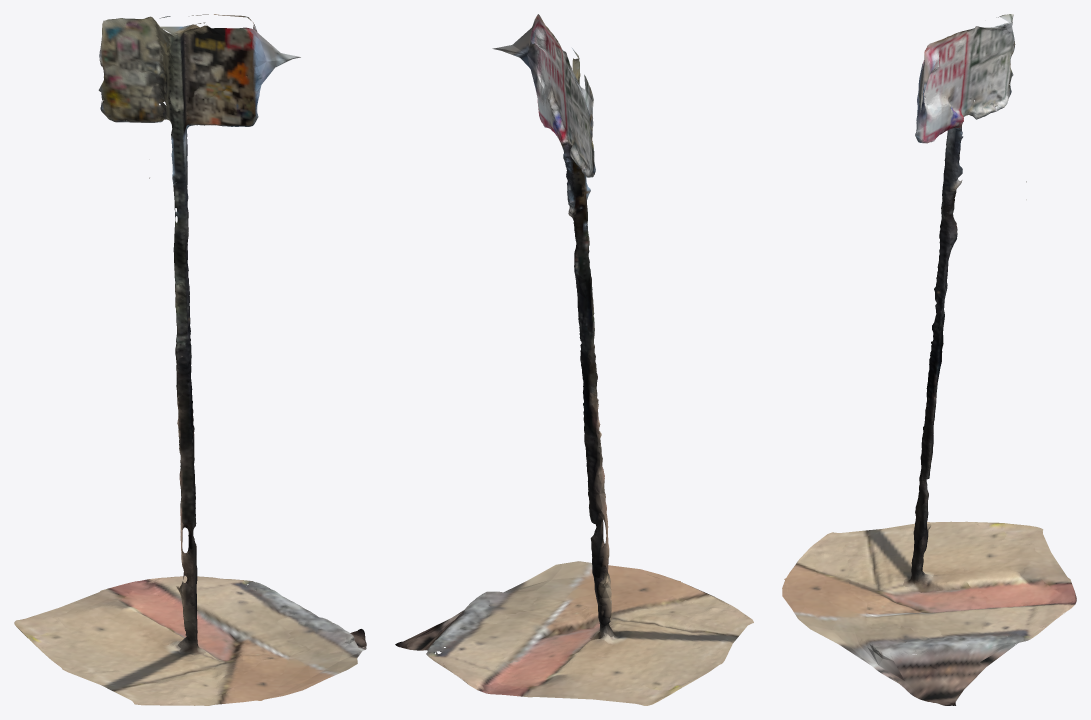
Rendered from Scaniverse_2022-08-18_162221.glb.
3 views of the same model, side by side, from view 1: azimuth 30°, elevation 25°; view 2: azimuth 150°, elevation 25°; view 3: azimuth 270°, elevation 25° (orthographic). The views are drawn at different scales.
Parts seen in each view (by area): view 1: mesh; view 2: mesh; view 3: mesh.
Part boxes in pixels (box(x1,y1,x2,y2)): mesh: box(14, 14, 366, 705); mesh: box(395, 14, 753, 705); mesh: box(782, 14, 1076, 705).
Bounding box in the file's own units: 1.42 × 2.85 × 1.26.
Materials: 1 (1 with a texture image).
